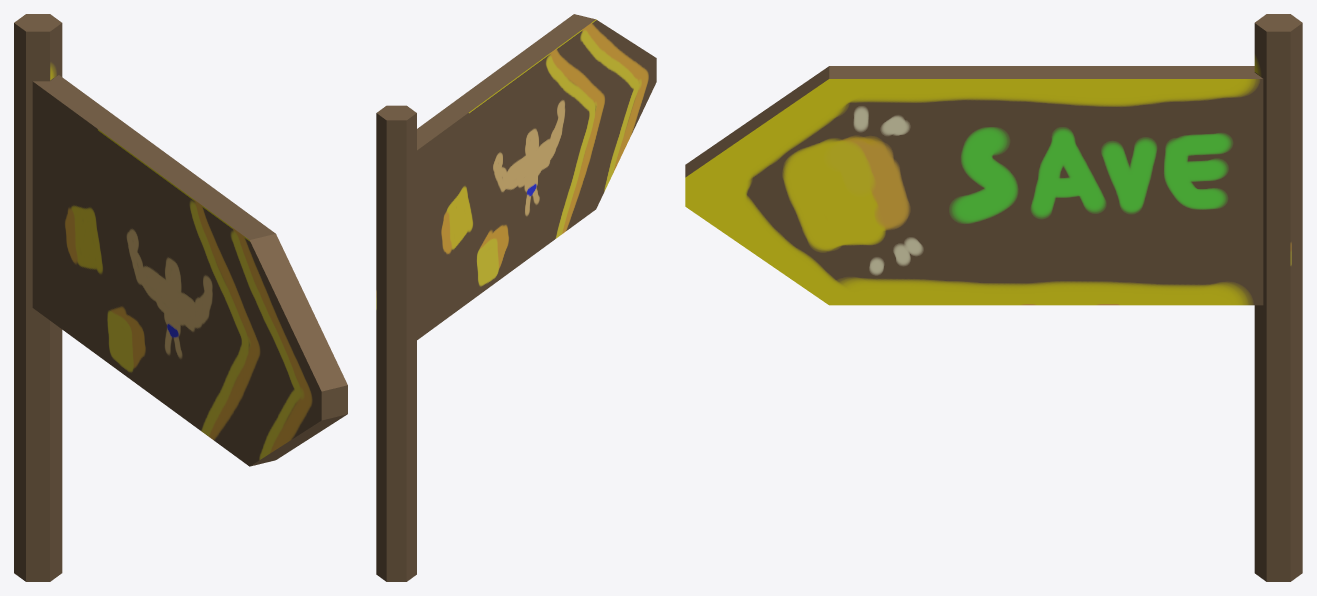
File: Panneau.glb
3 views of the same model, side by side, from view 1: azimuth 30°, elevation 25°; view 2: azimuth 150°, elevation 25°; view 3: azimuth 270°, elevation 25° (orthographic). The views are drawn at different scales.
Visible parts, largest first — view 1: Panneau; view 2: Panneau; view 3: Panneau.
Boxes of the visible parts, left/top/right/bottom form: Panneau: left=14, top=14, right=347, bottom=581; Panneau: left=376, top=14, right=656, bottom=581; Panneau: left=685, top=14, right=1302, bottom=581.
Size of the model in its own units: 0.1299 by 1.89 by 1.92.
1 material, 1 textured.
